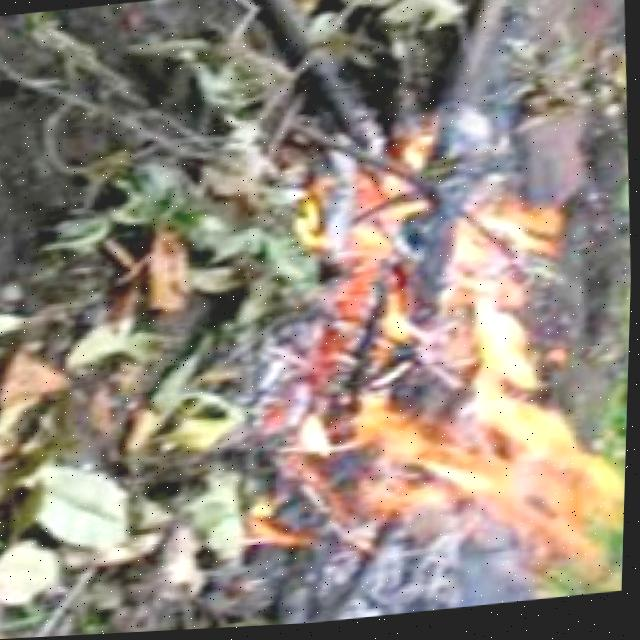Fire: (297, 118, 637, 593)
